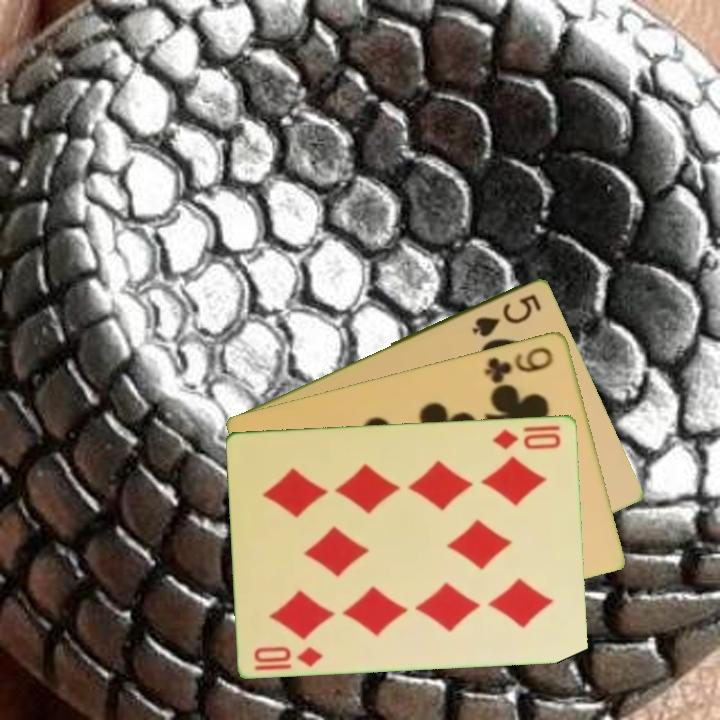10d: (251, 642, 326, 670), (489, 425, 564, 452)
5s: (468, 289, 545, 340)
9c: (481, 342, 557, 386)
